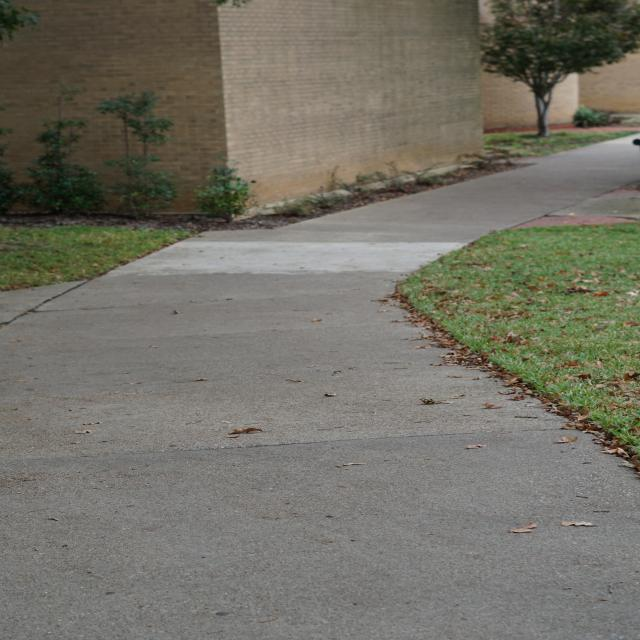Sidewalk: (0, 137, 640, 640)
